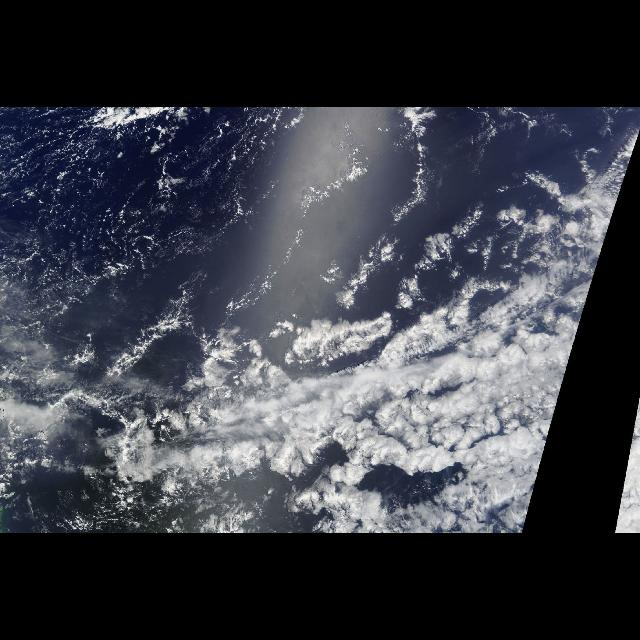Fish: (100, 231, 610, 534), (614, 486, 622, 532)
Gravel: (1, 107, 336, 341)
Sugar: (2, 108, 266, 346)
